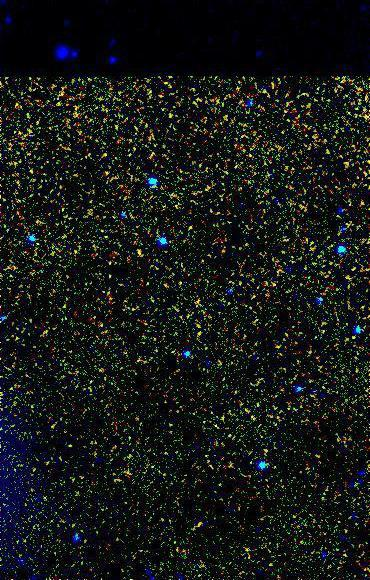star: (126, 238, 156, 268)
